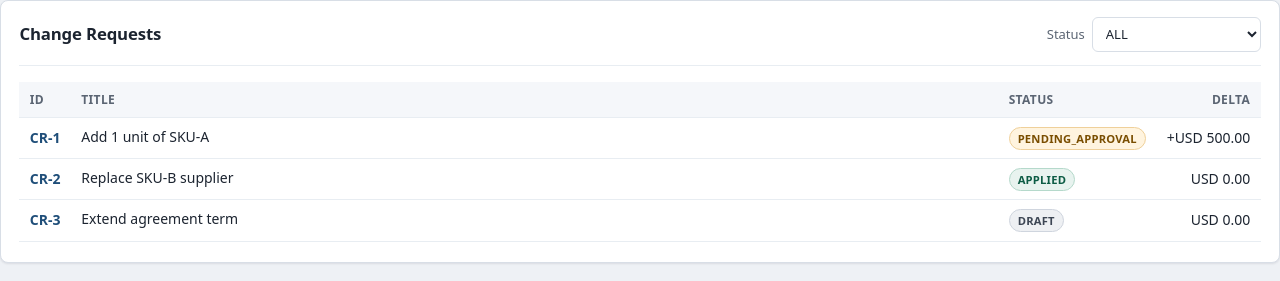
Test: CrListComponent › shows a no-matches message distinct from the empty API state
Select "SUBMITTED" in the dropdown with class "cr-list__filter" at [1176, 34], box [1092,17,1261,52]
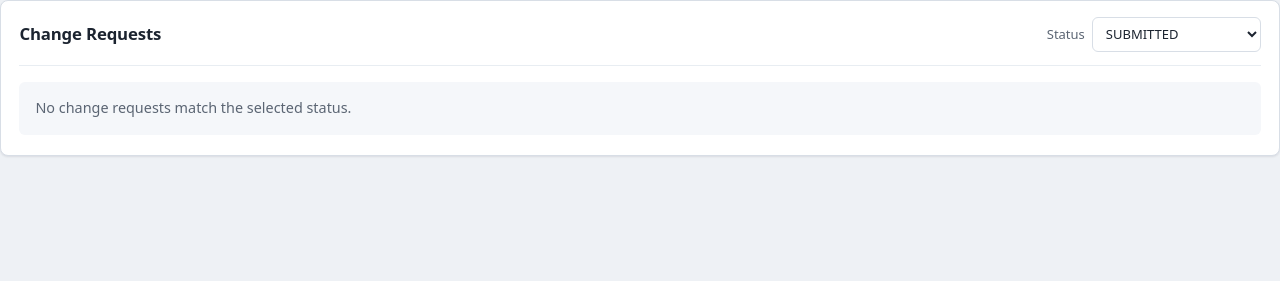
expect the message "No change requests match the selected status." is shown: met, box [19,82,1261,135]
expect the table with class "cr-list__table" is gone: met
